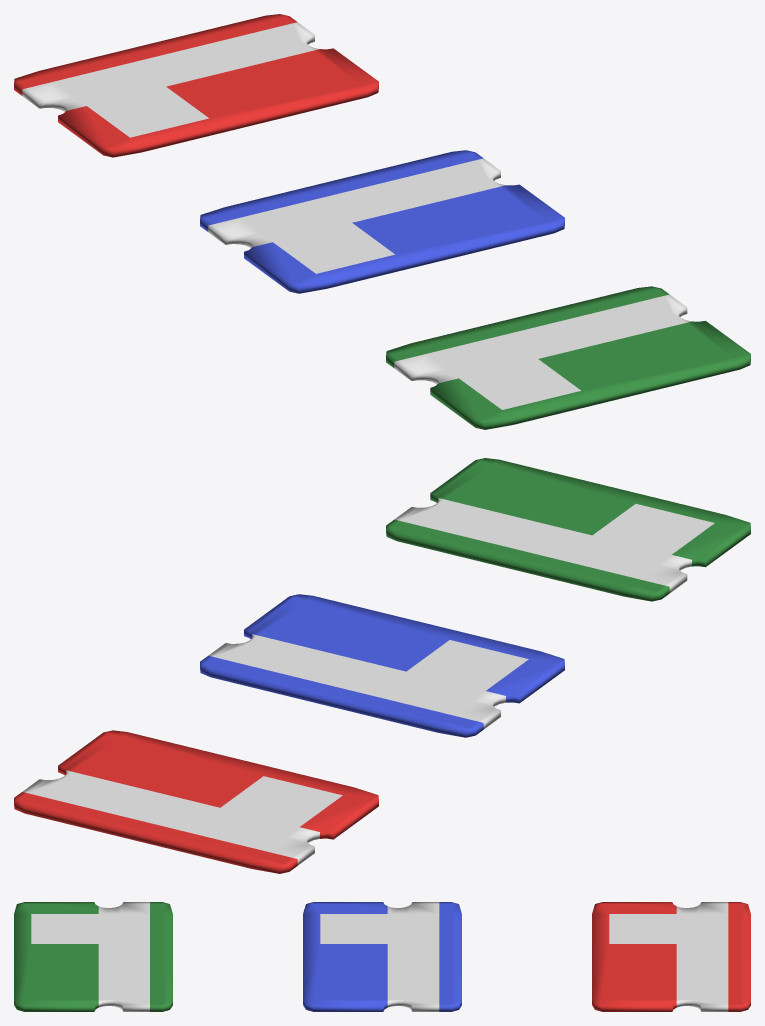
The model's file is Keycards.fbx.
3 views of the same model, one above another, from view 1: azimuth 30°, elevation 25°; view 2: azimuth 150°, elevation 25°; view 3: azimuth 270°, elevation 25° (orthographic). The views are drawn at different scales.
Visible parts, largest first — view 1: Card_Green, Card_Blue, Card_Red; view 2: Card_Green, Card_Red, Card_Blue; view 3: Card_Green, Card_Red, Card_Blue.
Part boxes in pixels (bbox=[...]): Card_Green: bbox=[386, 286, 750, 429]; Card_Blue: bbox=[200, 150, 564, 293]; Card_Red: bbox=[14, 14, 378, 157]; Card_Green: bbox=[386, 458, 750, 601]; Card_Red: bbox=[14, 730, 378, 873]; Card_Blue: bbox=[200, 594, 564, 737]; Card_Green: bbox=[14, 902, 172, 1011]; Card_Red: bbox=[592, 902, 750, 1011]; Card_Blue: bbox=[303, 902, 461, 1011].
Size of the model in its own units: 8.55 by 0.2 by 25.5.
